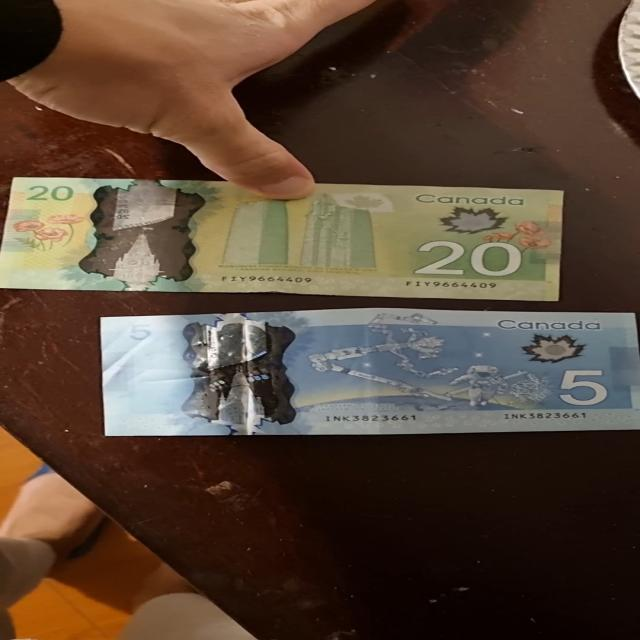20 cad: (0, 178, 569, 300)
5 cad: (87, 316, 640, 430)
